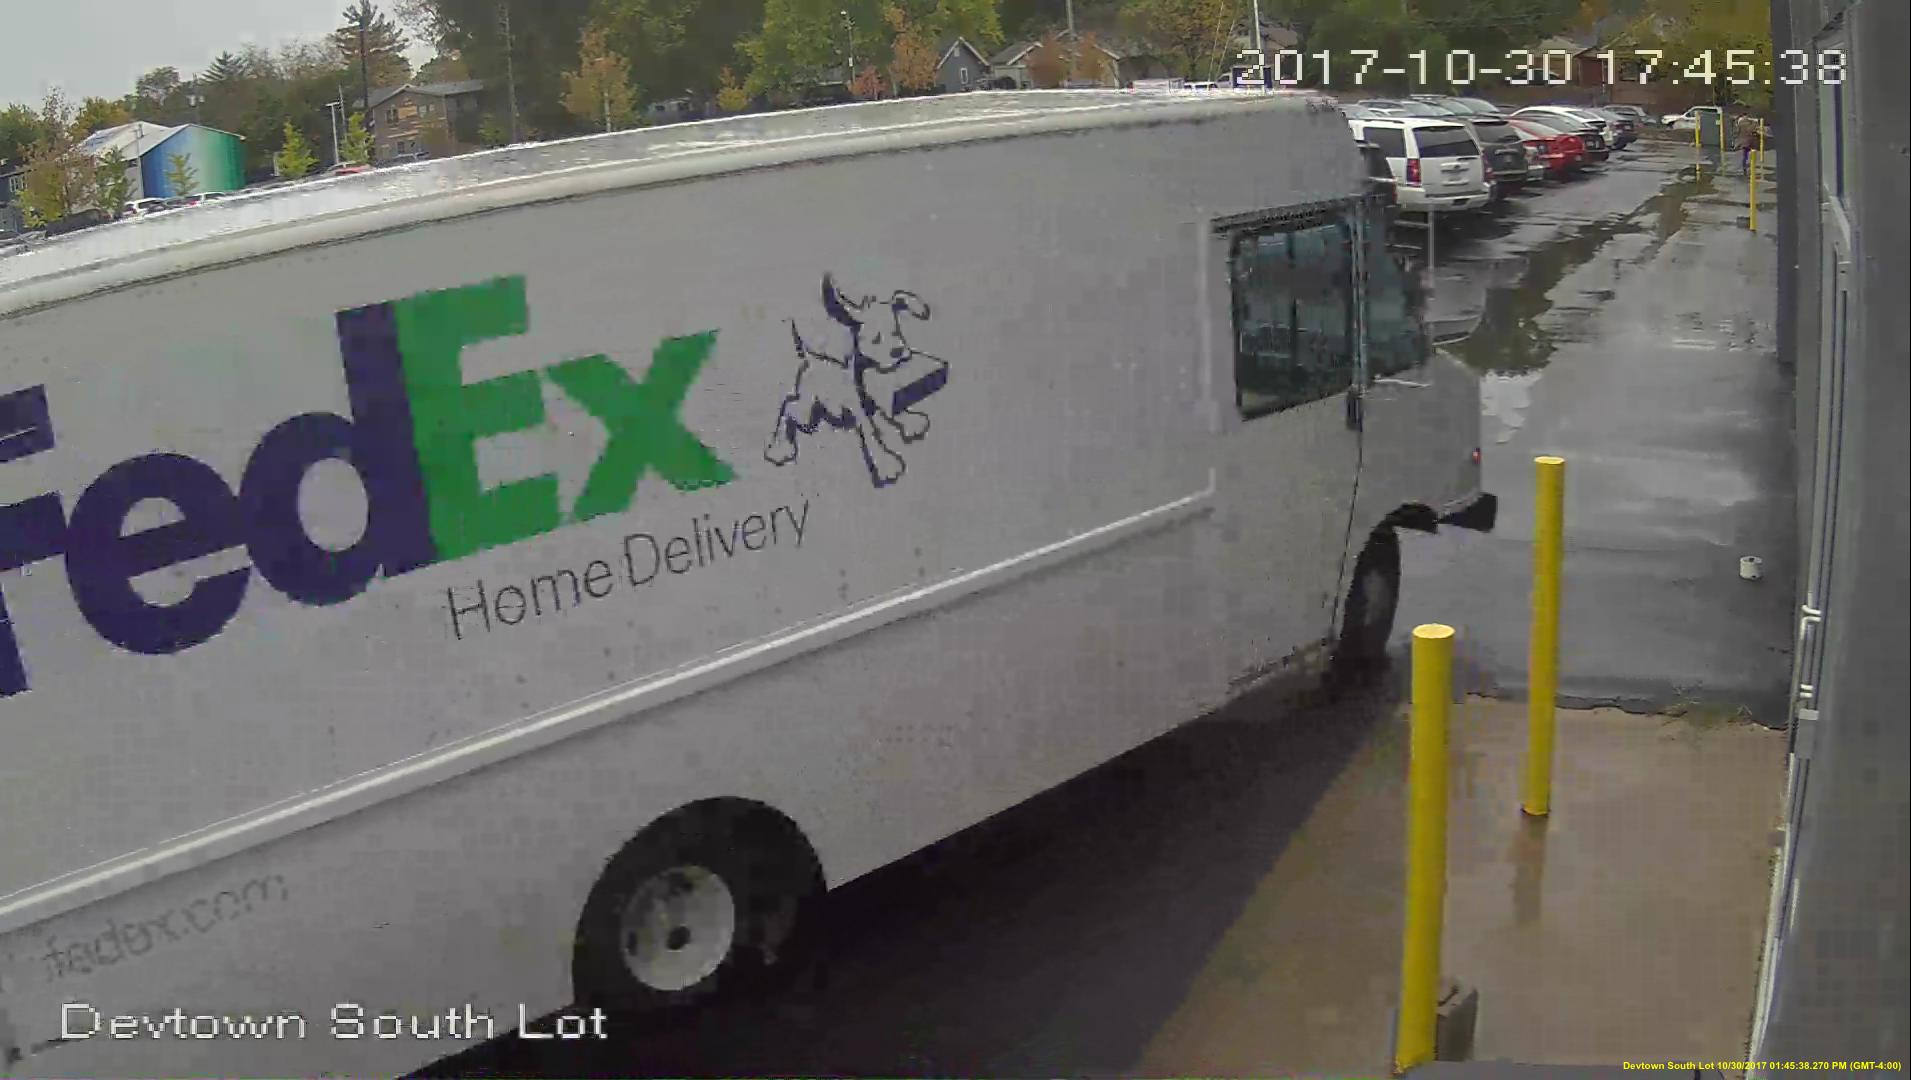fedex_truck: (3, 60, 1487, 1077)
